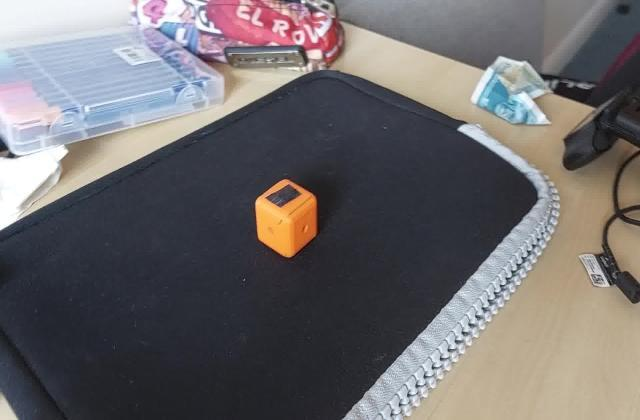black: (268, 185, 304, 207)
cube: (254, 178, 322, 260)
